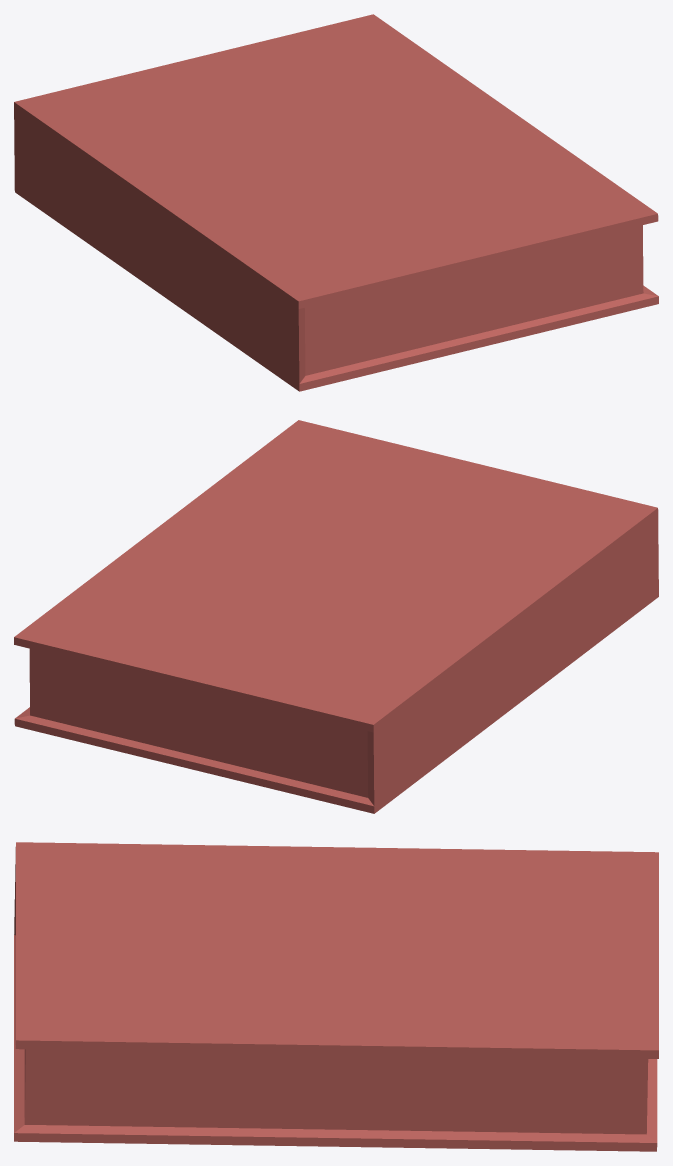
File: book_l.fbx
3 renders of one model, top to bottom at view 1: azimuth 30°, elevation 25°; view 2: azimuth 150°, elevation 25°; view 3: azimuth 270°, elevation 25°, orthographic. The views are drawn at different scales.
Parts seen in each view (by area): view 1: book_l; view 2: book_l; view 3: book_l.
Part boxes in pixels (<box>): book_l: <box>14,14,658,391</box>; book_l: <box>14,420,658,813</box>; book_l: <box>14,842,658,1151</box>.
Bounding box in the file's own units: 18.8 × 4.92 × 25.85.
